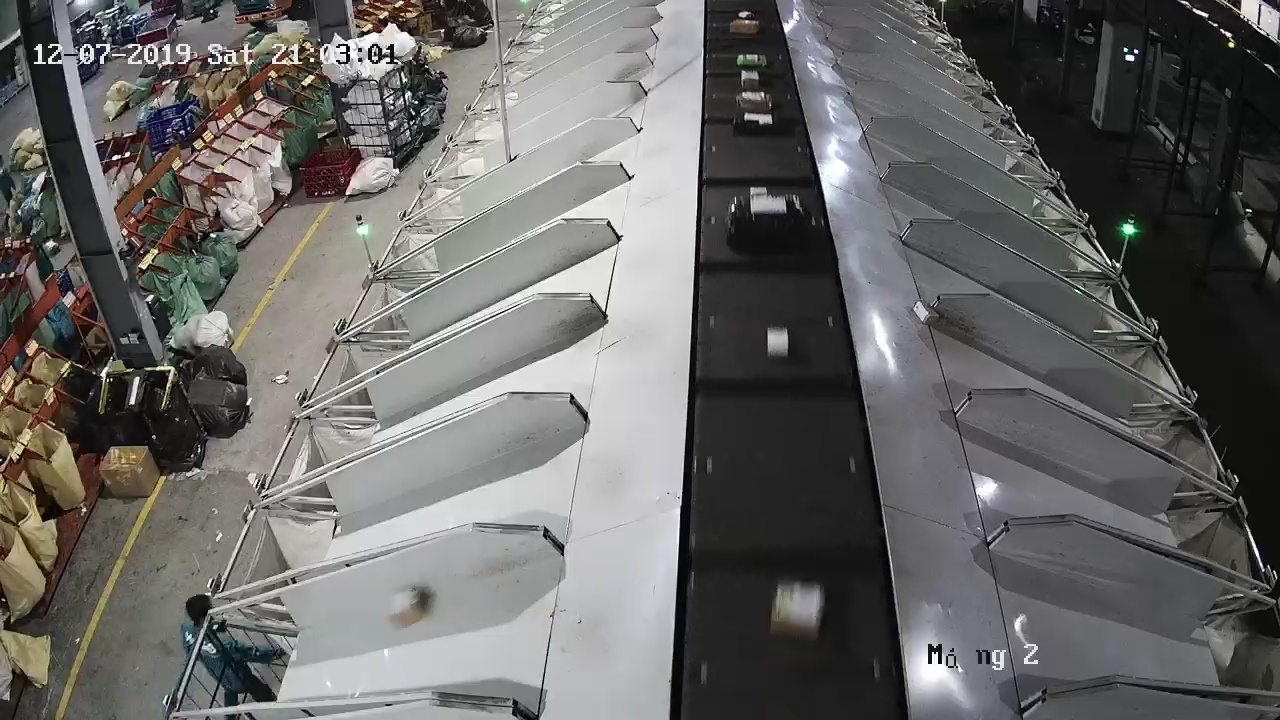parcel: (385, 586, 430, 631)
